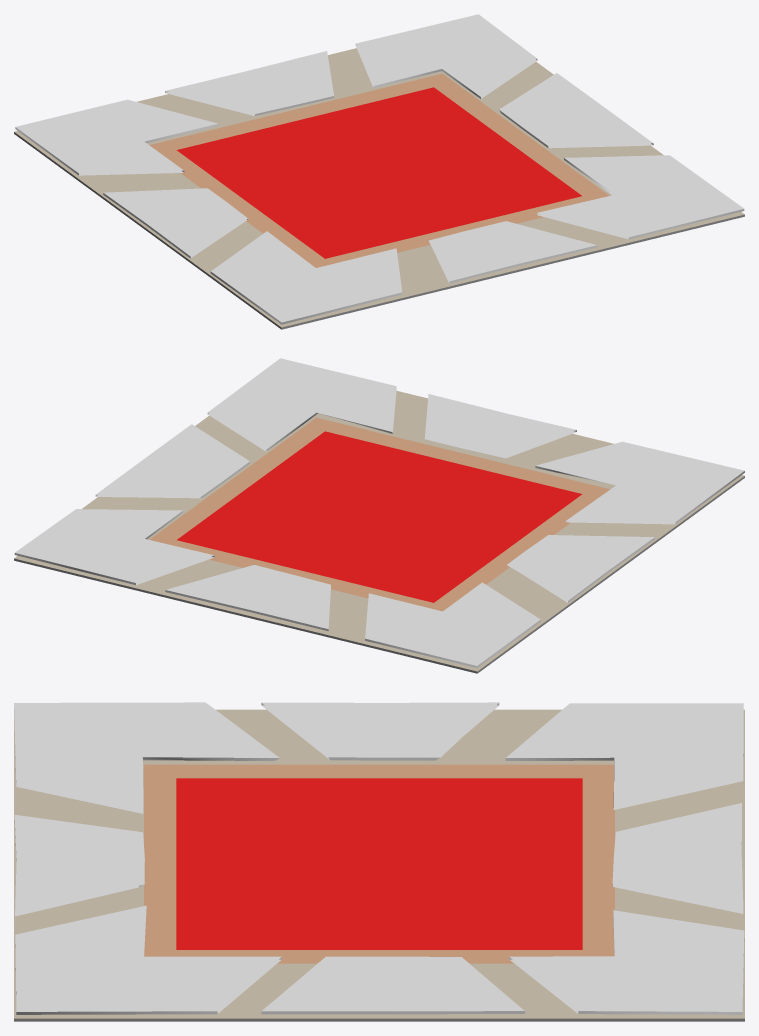
File: Interrupteur_Bloc_Retouche.FBX
The picture shows the model from 3 angles, top to bottom: view 1: azimuth 30°, elevation 25°; view 2: azimuth 150°, elevation 25°; view 3: azimuth 270°, elevation 25°; orthographic projection. The views are drawn at different scales.
Visible parts, largest first — view 1: Box995, Cylinder230; view 2: Box995, Cylinder230; view 3: Box995, Cylinder230.
Boxes of the visible parts, x1,y1,x2,y2 form: Box995: [14, 48, 744, 329]; Cylinder230: [15, 14, 744, 324]; Box995: [14, 391, 744, 673]; Cylinder230: [14, 358, 744, 667]; Box995: [14, 709, 744, 1021]; Cylinder230: [14, 702, 744, 1014].
Bounding box in the file's own units: 178 × 2.62 × 177.
